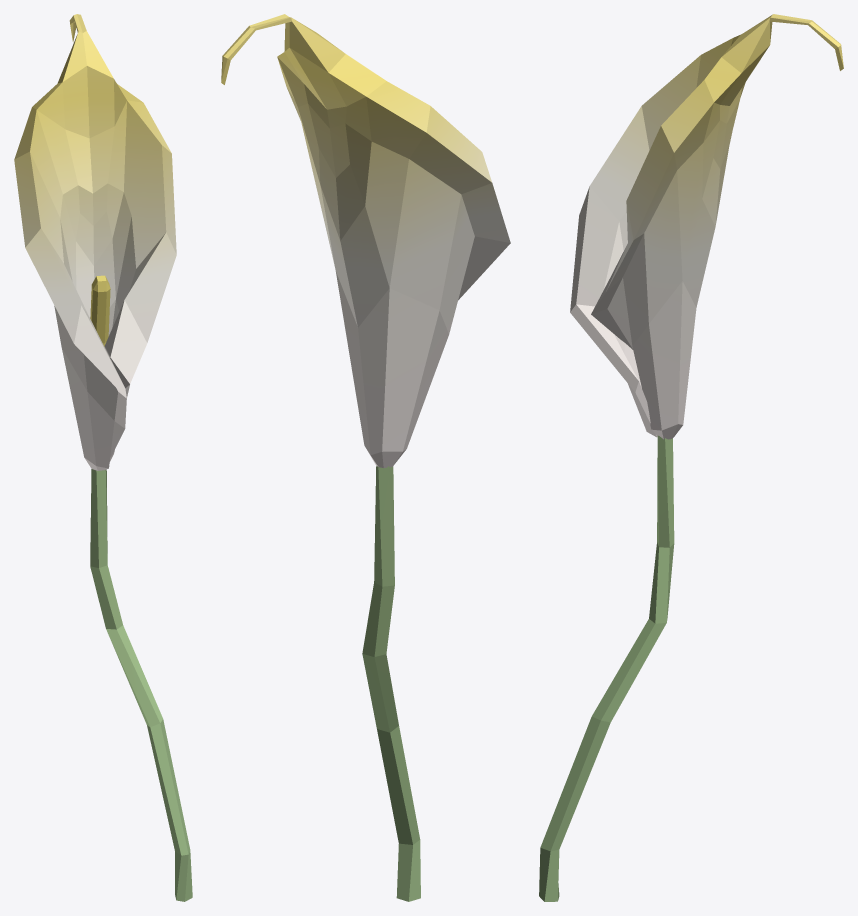
The model's file is CallaLily_Yellow.fbx.
The picture shows the model from 3 angles, left to right: view 1: azimuth 30°, elevation 25°; view 2: azimuth 150°, elevation 25°; view 3: azimuth 270°, elevation 25°; orthographic projection. The views are drawn at different scales.
Parts seen in each view (by area): view 1: CallaLily_Yellow; view 2: CallaLily_Yellow; view 3: CallaLily_Yellow.
Boxes of the visible parts, <box> form: CallaLily_Yellow: <box>14,14,192,901</box>; CallaLily_Yellow: <box>221,14,510,901</box>; CallaLily_Yellow: <box>539,14,843,901</box>.
Size of the model in its own units: 14.75 by 71.1 by 22.25.
